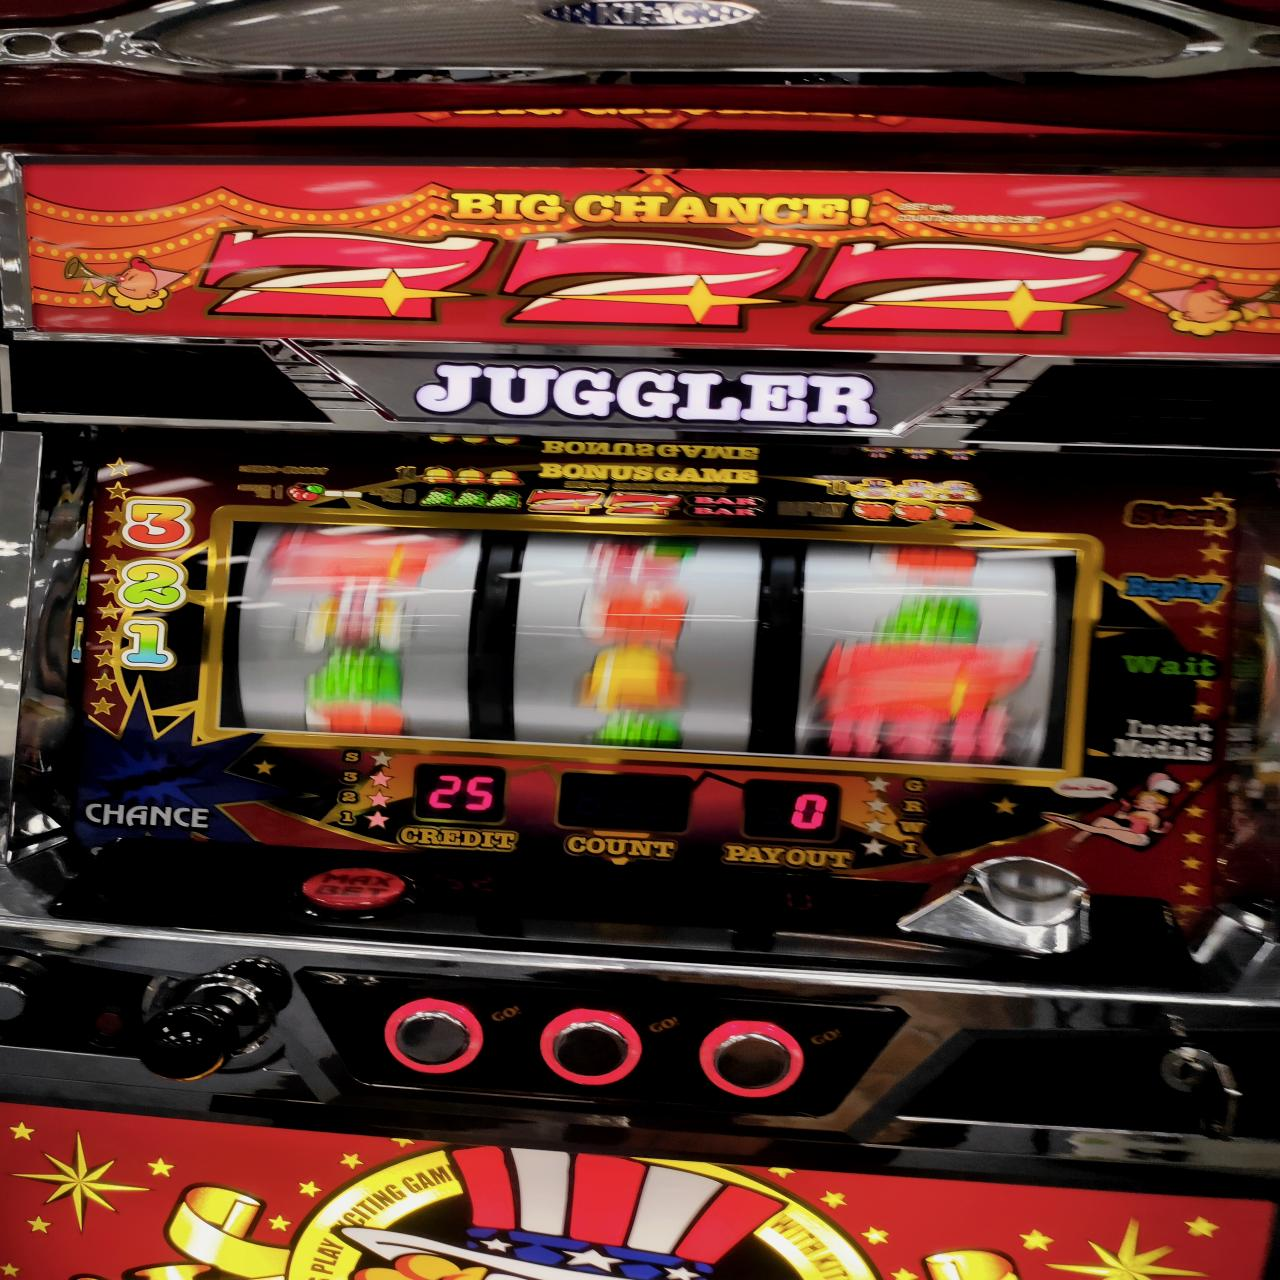rhino: (224, 512, 1087, 782)
